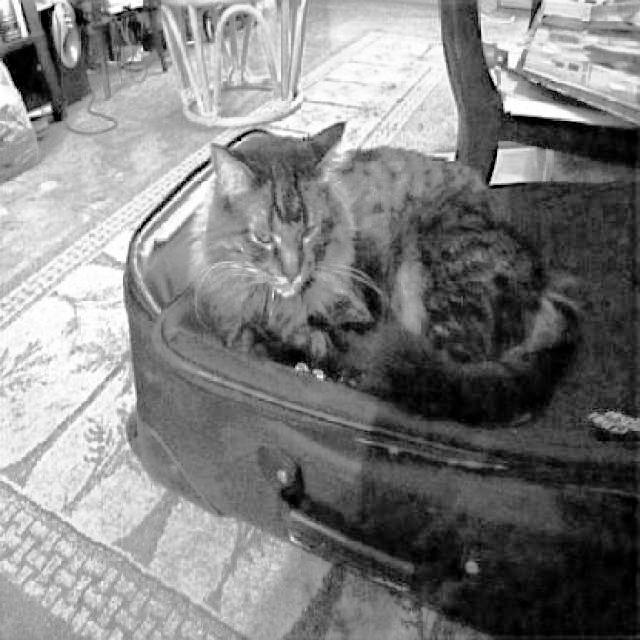Cat: (196, 116, 587, 429)
